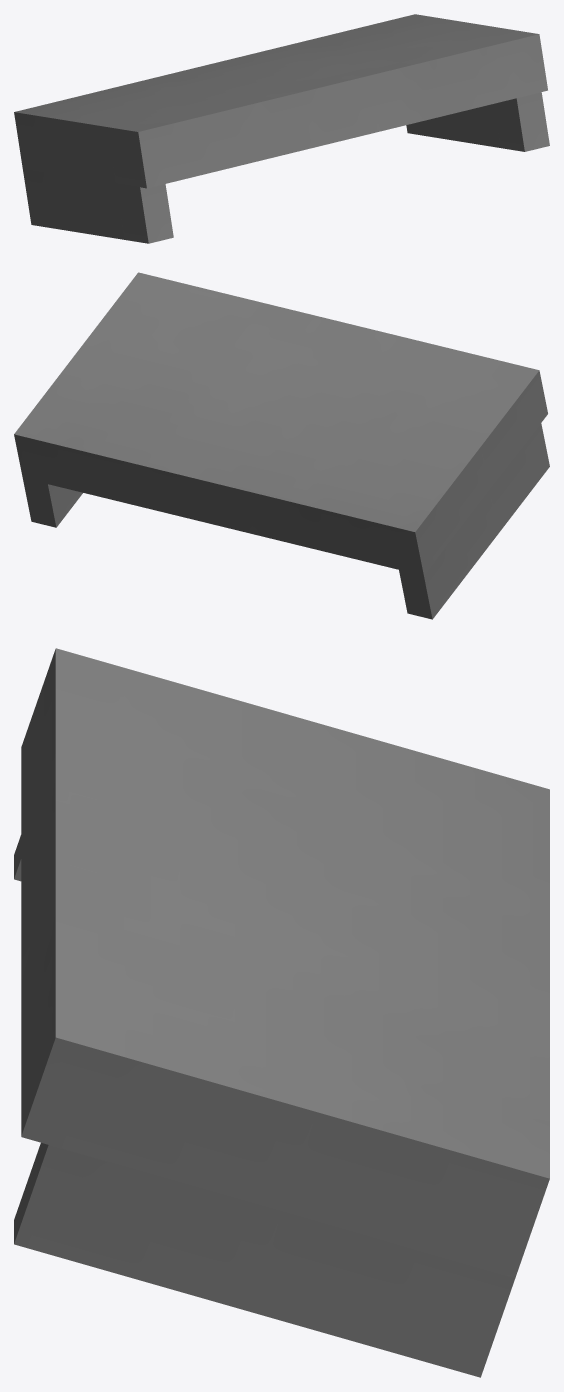
The model's file is dc_metro_arch_b9.obj.
3 views of the same model, one above another, from view 1: azimuth 30°, elevation 25°; view 2: azimuth 150°, elevation 25°; view 3: azimuth 270°, elevation 25° (orthographic). The views are drawn at different scales.
Visible parts, largest first — view 1: part9; view 2: part9; view 3: part9.
Part boxes in pixels (<box>): part9: <box>14,14,549,243</box>; part9: <box>14,272,549,619</box>; part9: <box>14,648,549,1377</box>.
Size of the model in its own units: 2 by 0.8152 by 1.16.
2 materials, 2 textured.
